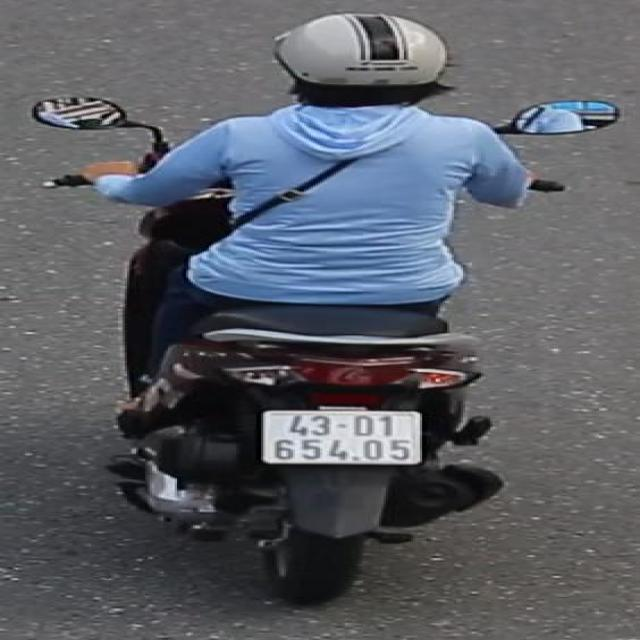LP: (256, 404, 429, 469)
helmet: (268, 7, 454, 118)
